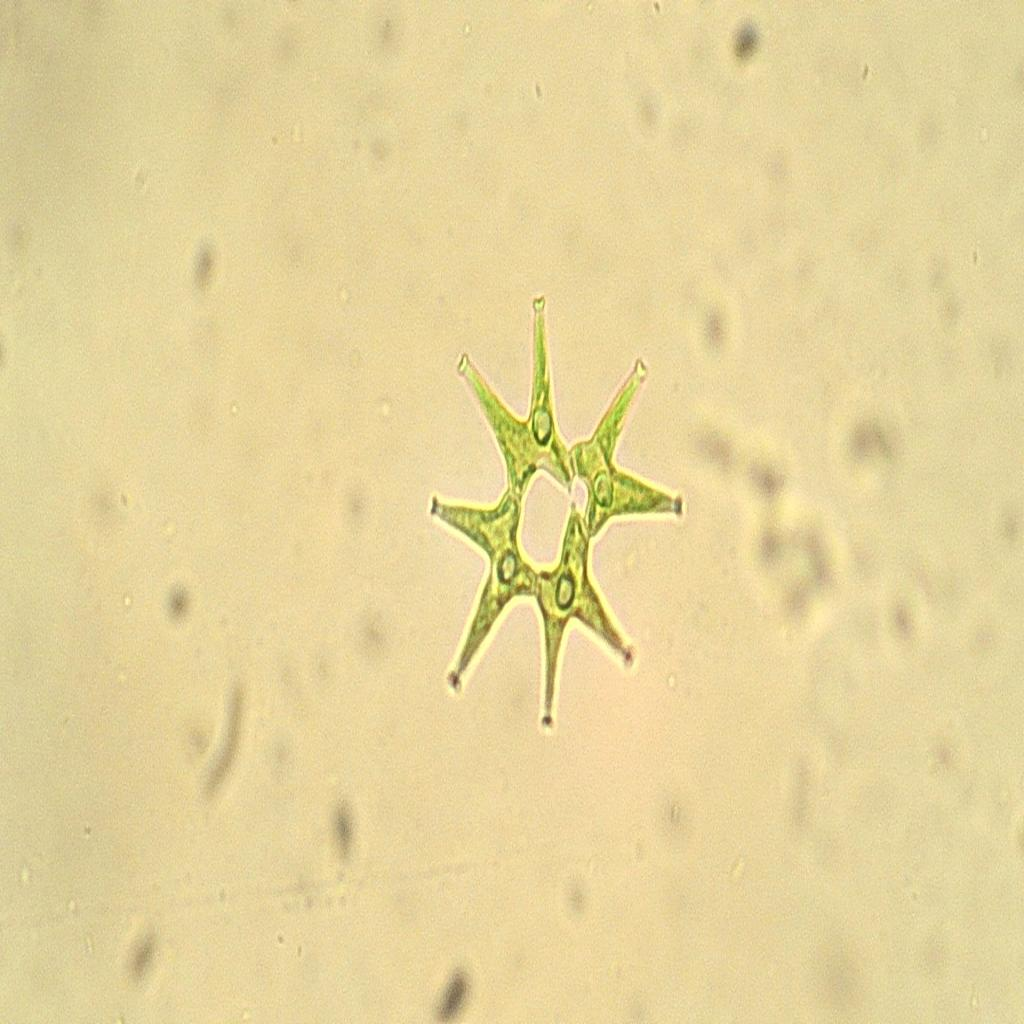Pediastrum_CF: (417, 275, 698, 735)
